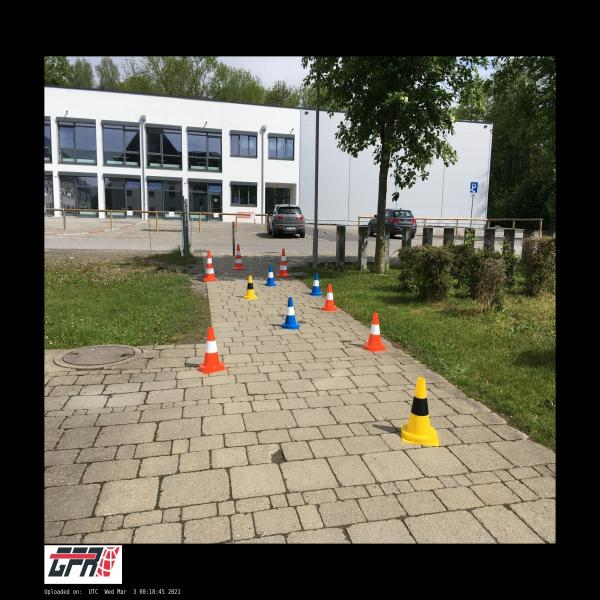blue_cone: (280, 297, 301, 329), (310, 274, 322, 296), (265, 266, 277, 286)
large_orange_cone: (203, 250, 217, 282), (276, 249, 290, 277), (233, 244, 244, 270)
orange_cone: (196, 327, 227, 374), (361, 312, 388, 352), (320, 284, 340, 312)
yellow_cone: (401, 377, 439, 446), (244, 276, 258, 300)
